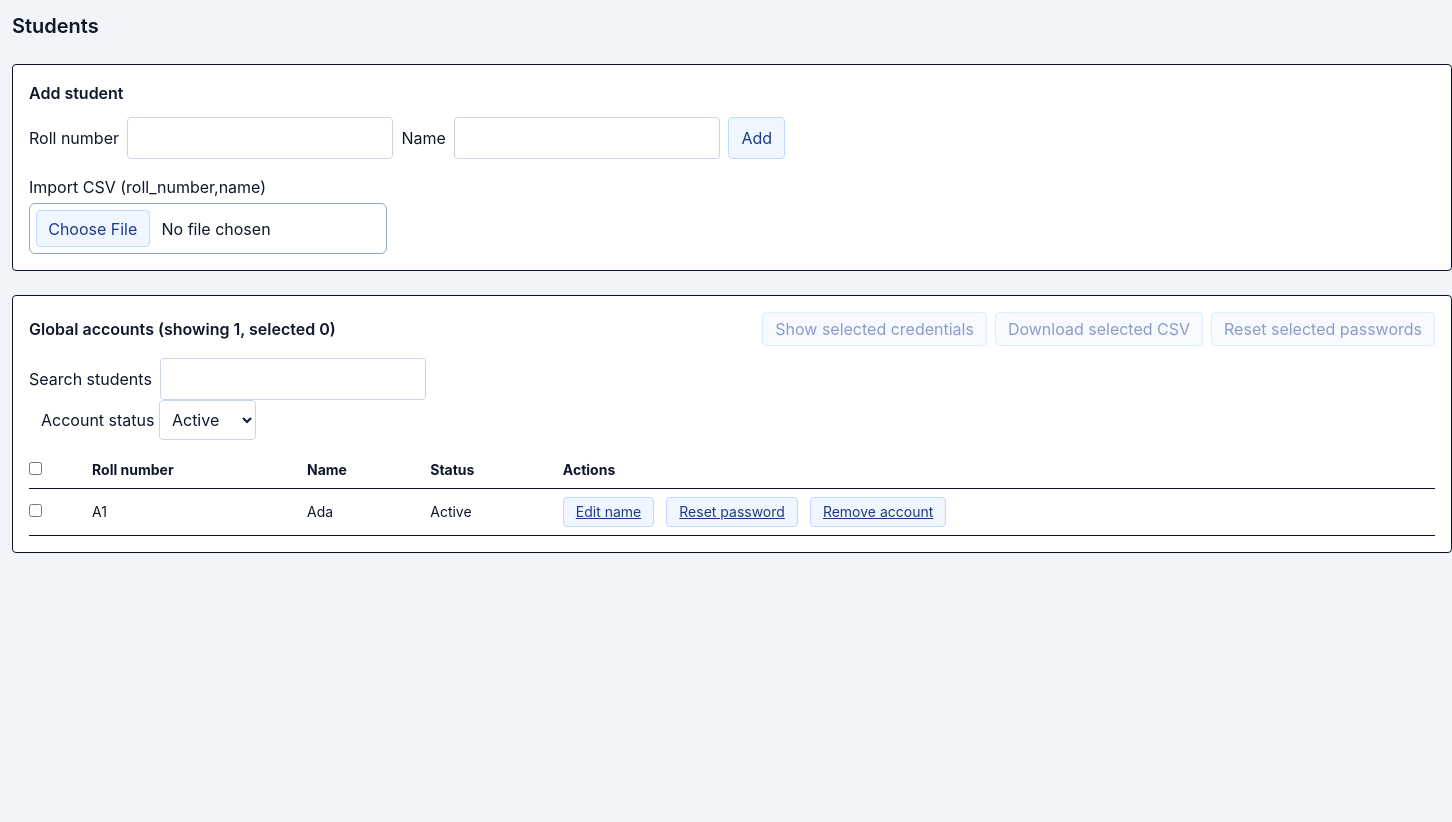
remove account asks for a reason and shows the server outcome
The width and height of the screenshot is (1452, 822).
Expected: the text "A1" is shown, top-left (84, 489), bottom-right (299, 536)
Click the button "Remove account": (878, 512) top-left (810, 497), bottom-right (946, 527)
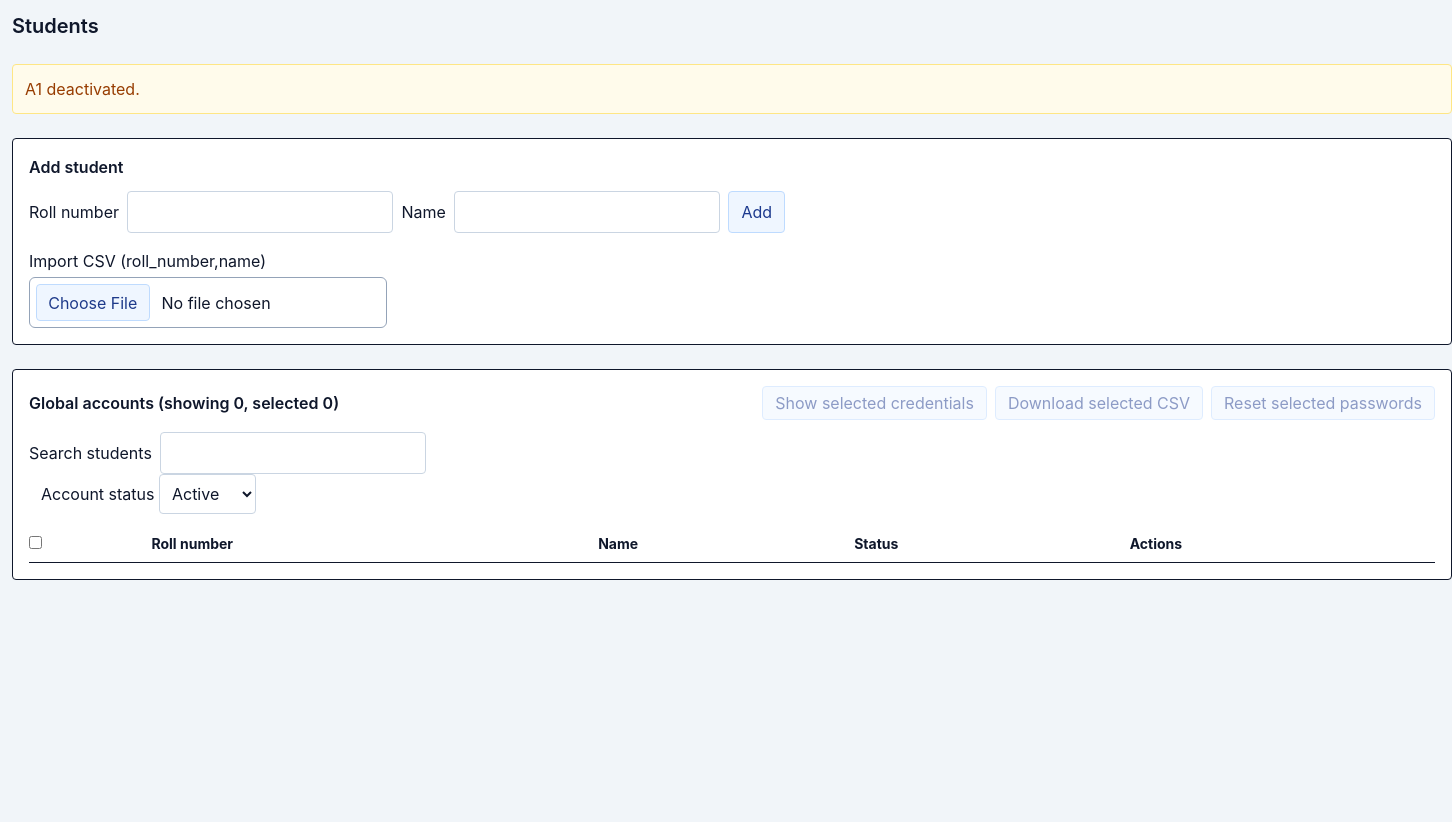
Expected: the text "A1 deactivated." is shown, top-left (12, 64), bottom-right (1451, 114)
